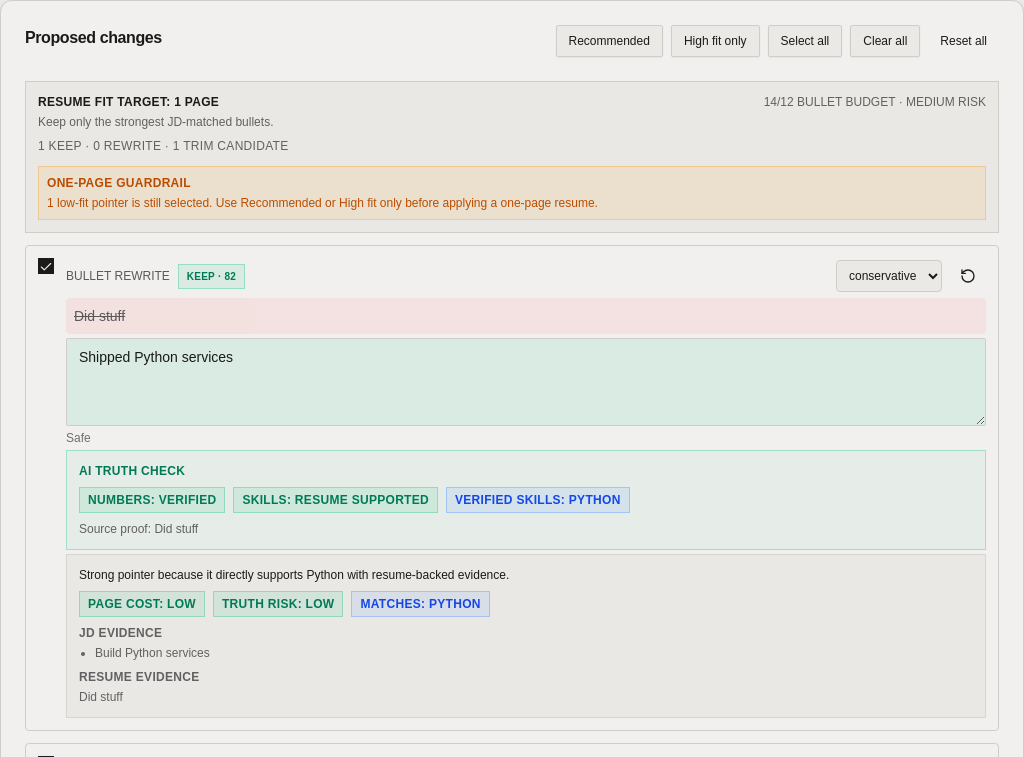
DiffView › resets all pointer selections and edited text
Step 1. Select "impact" in the dropdown named "Pointer option" in the row of "82" → (889, 276), box [836, 260, 942, 292]
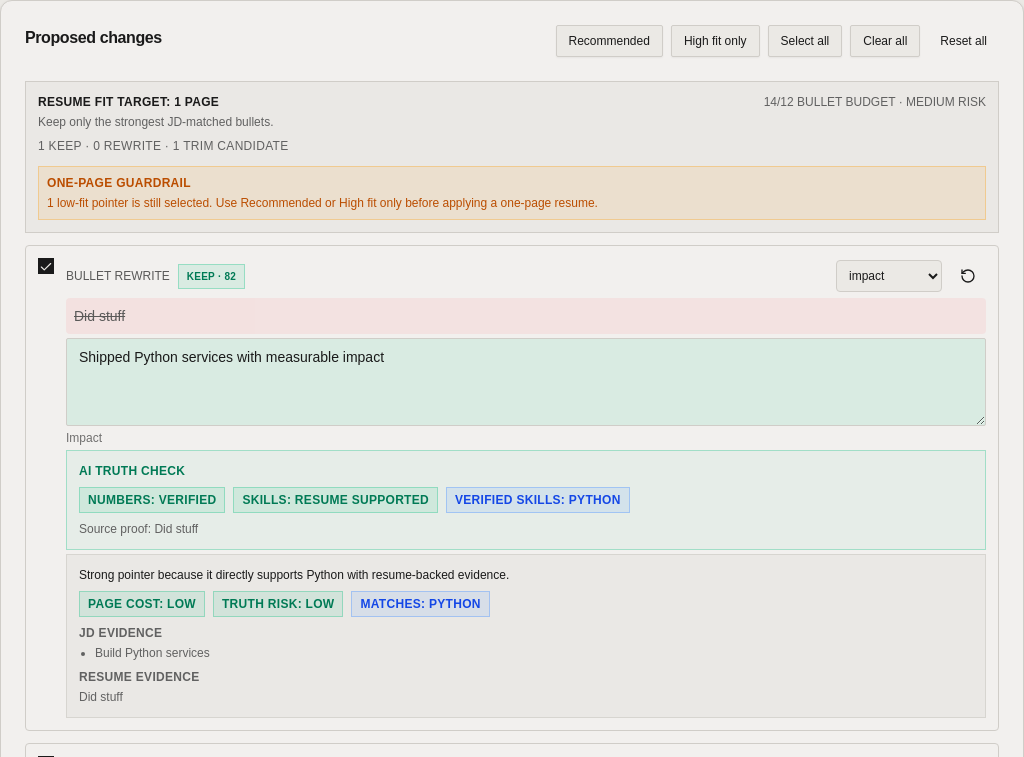
Step 2. Replace the text in the text box showing "Shipped Python services with measurable impact" with "Edited impact pointer" → (526, 382), box [66, 338, 986, 426]
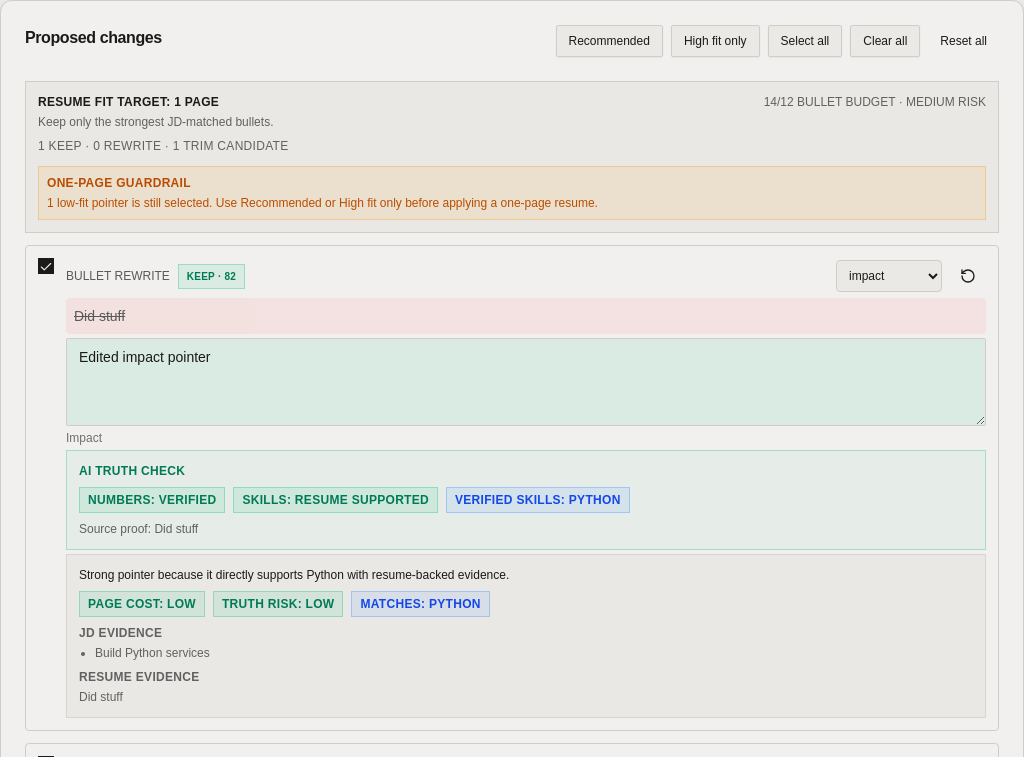
Step 3. Click the button "Clear all" → (885, 41), box [850, 25, 920, 57]
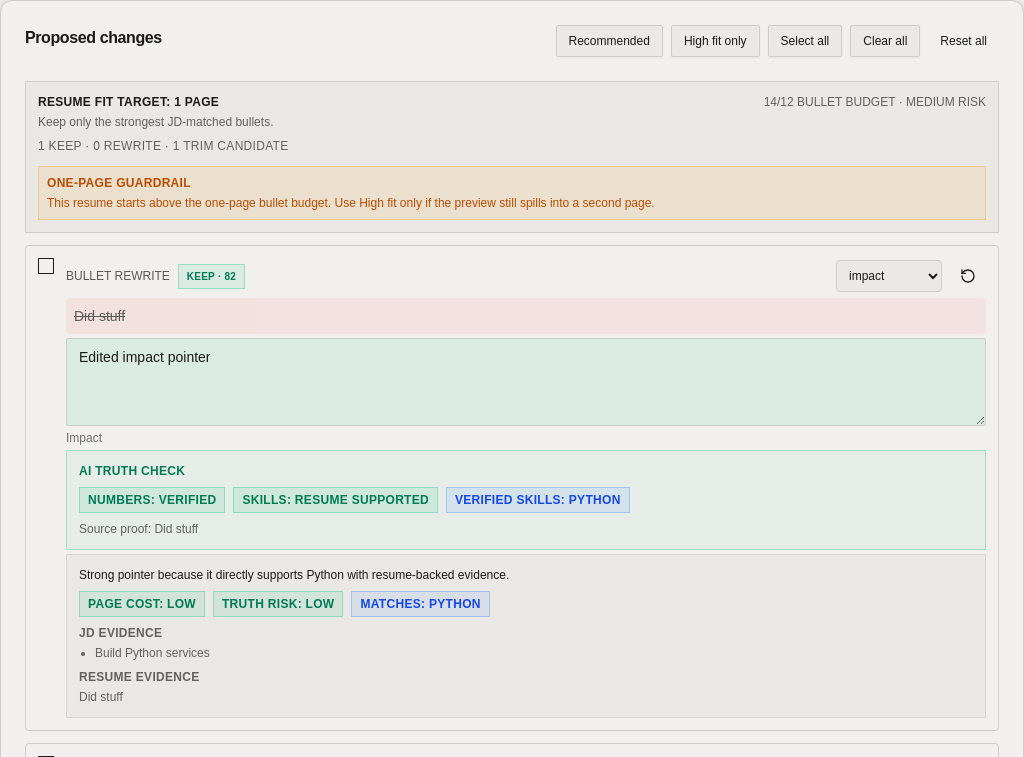
Step 4. Click the button "Reset all" → (964, 41), box [928, 25, 999, 57]
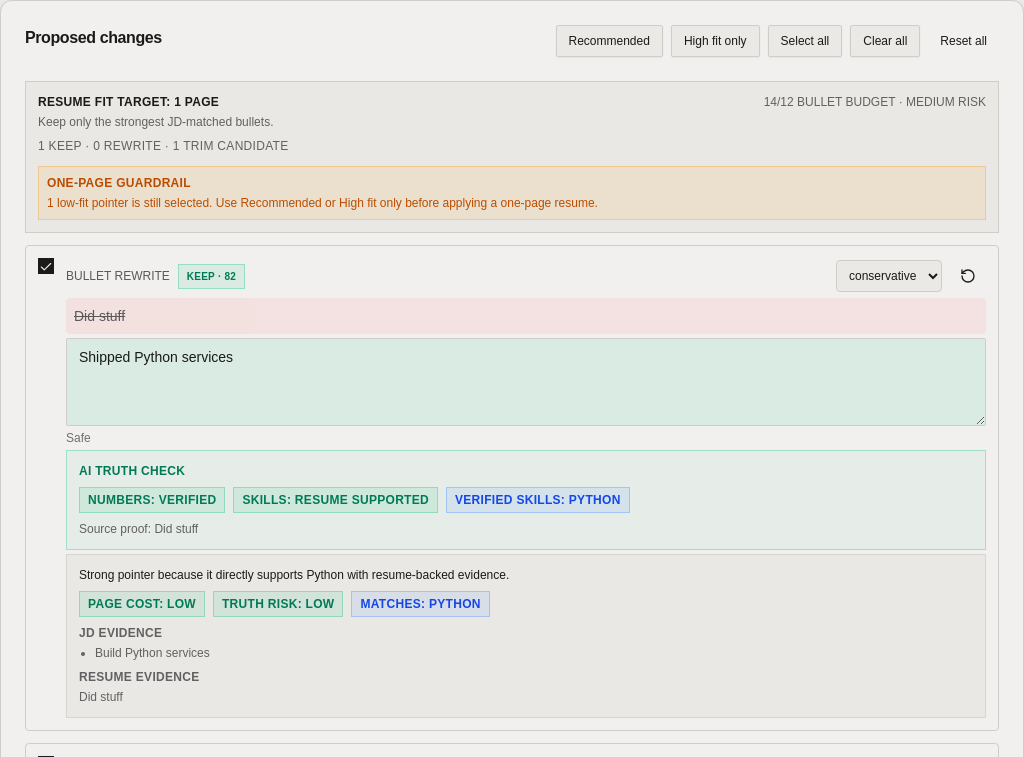
Now the text box showing "Shipped Python services" is shown, box [66, 338, 986, 426]
